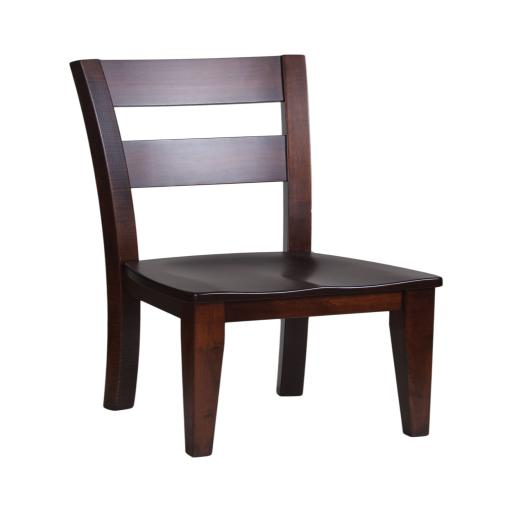chair: (55, 52, 438, 458)
